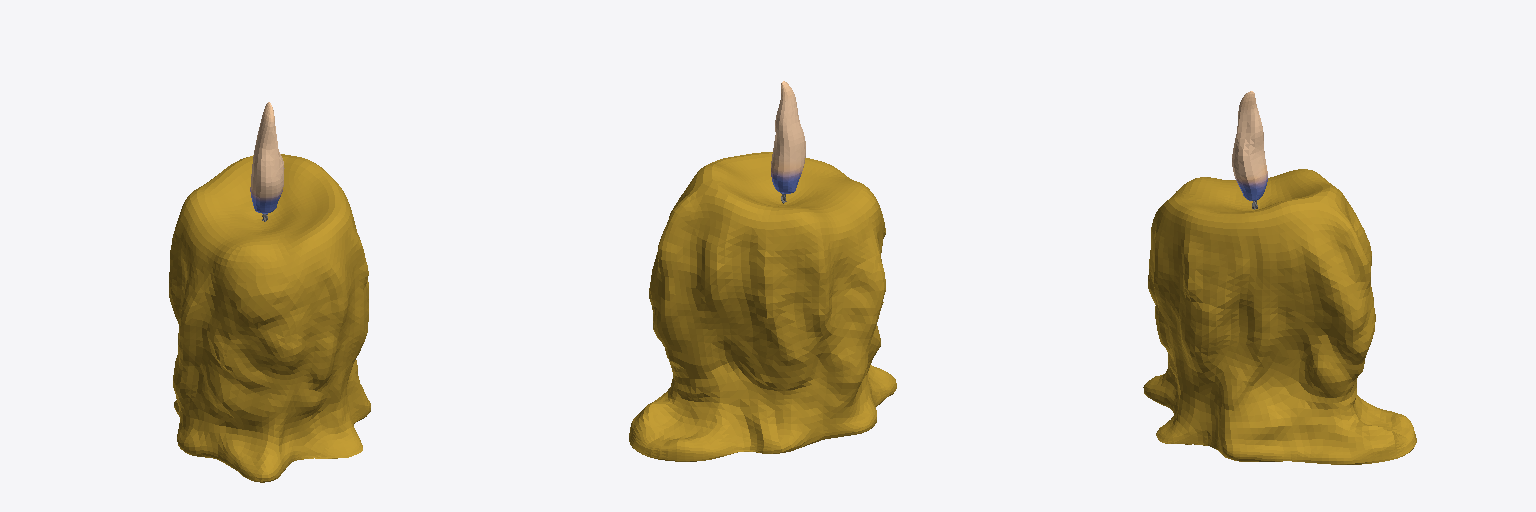
The picture shows the model from 3 angles: view 1: azimuth 30°, elevation 25°; view 2: azimuth 150°, elevation 25°; view 3: azimuth 270°, elevation 25°; orthographic projection.
Parts seen in each view (by area): view 1: Candle, Flame; view 2: Candle, Flame; view 3: Candle, Flame.
Boxes of the visible parts, <box> form: Candle: <box>169,154,370,482</box>; Flame: <box>250,102,284,213</box>; Candle: <box>629,152,896,461</box>; Flame: <box>771,81,805,193</box>; Candle: <box>1143,169,1416,464</box>; Flame: <box>1232,91,1267,200</box>.
Bounding box in the file's own units: 2.95 × 4.85 × 3.66.
Materials: 3 (1 with a texture image).